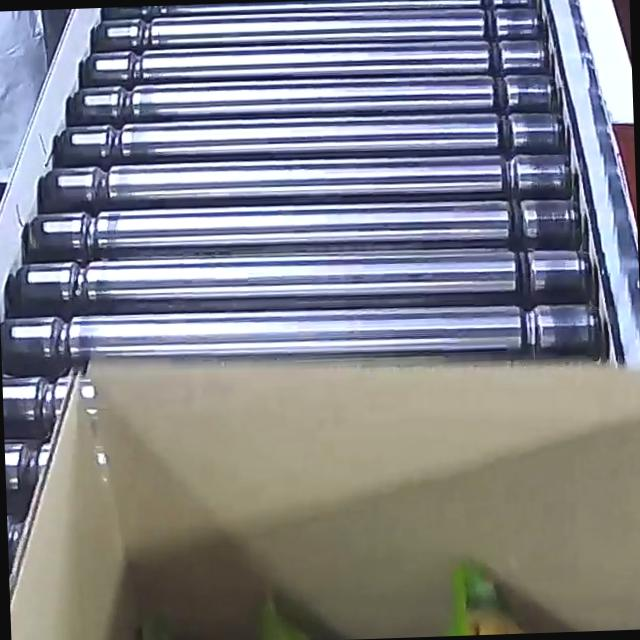yogurt: (127, 552, 640, 640)
